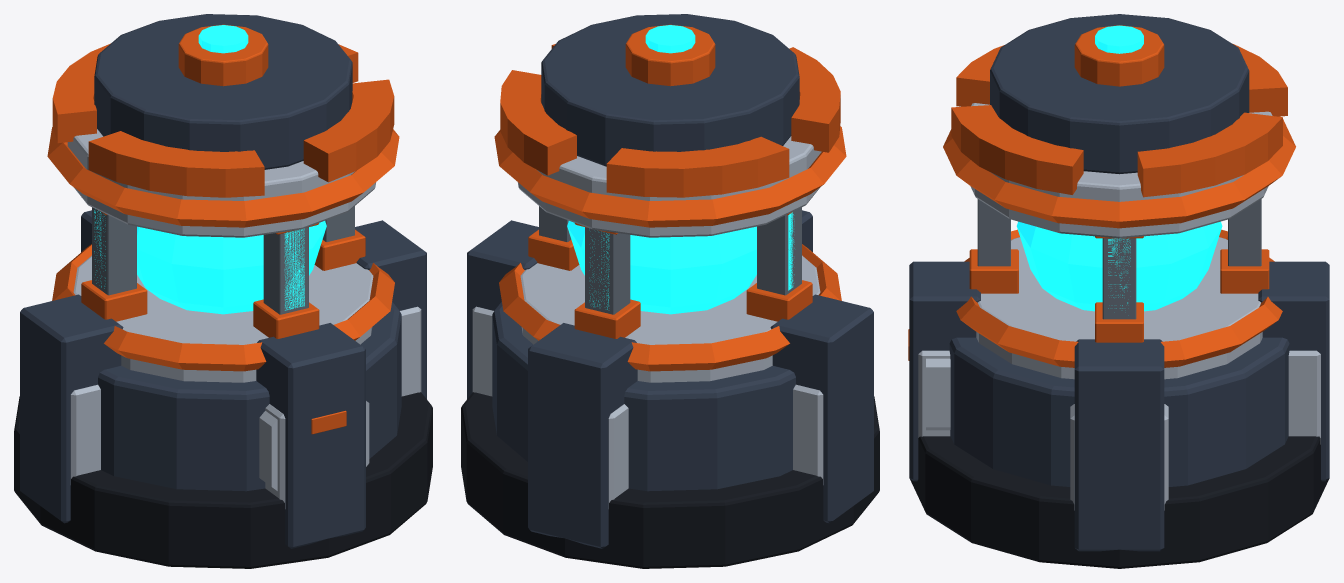
File: objective_core__intact.glb
3 views of the same model, side by side, from view 1: azimuth 30°, elevation 25°; view 2: azimuth 150°, elevation 25°; view 3: azimuth 270°, elevation 25° (orthographic).
Visible parts, largest first — view 1: ROLE_primary, ROLE_accent, ROLE_rubber, ROLE_secondary, ROLE_interaction, ROLE_bareMetal; view 2: ROLE_primary, ROLE_accent, ROLE_rubber, ROLE_secondary, ROLE_interaction, ROLE_bareMetal; view 3: ROLE_primary, ROLE_accent, ROLE_rubber, ROLE_secondary, ROLE_interaction, ROLE_bareMetal.
Boxes of the visible parts, bbox=[...] form: ROLE_primary: bbox=[20, 14, 426, 548]; ROLE_accent: bbox=[47, 24, 399, 434]; ROLE_rubber: bbox=[14, 392, 432, 568]; ROLE_secondary: bbox=[67, 129, 421, 508]; ROLE_interaction: bbox=[94, 25, 326, 314]; ROLE_bareMetal: bbox=[92, 206, 354, 314]; ROLE_primary: bbox=[467, 14, 873, 548]; ROLE_accent: bbox=[494, 24, 846, 371]; ROLE_rubber: bbox=[461, 392, 879, 568]; ROLE_secondary: bbox=[472, 136, 823, 508]; ROLE_interaction: bbox=[567, 25, 794, 314]; ROLE_bareMetal: bbox=[539, 206, 801, 314]; ROLE_primary: bbox=[909, 14, 1329, 551]; ROLE_accent: bbox=[908, 25, 1295, 367]; ROLE_rubber: bbox=[909, 436, 1329, 568]; ROLE_secondary: bbox=[918, 103, 1320, 510]; ROLE_interaction: bbox=[1016, 25, 1222, 311]; ROLE_bareMetal: bbox=[977, 199, 1261, 319].
Bounding box in the file's own units: 6 × 7 × 6.
